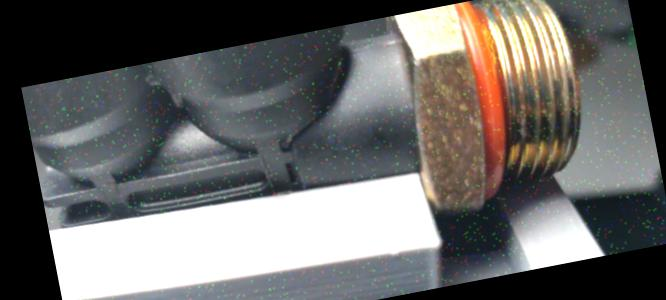joint line: (351, 42, 381, 55)
white mark: (380, 31, 403, 48)
